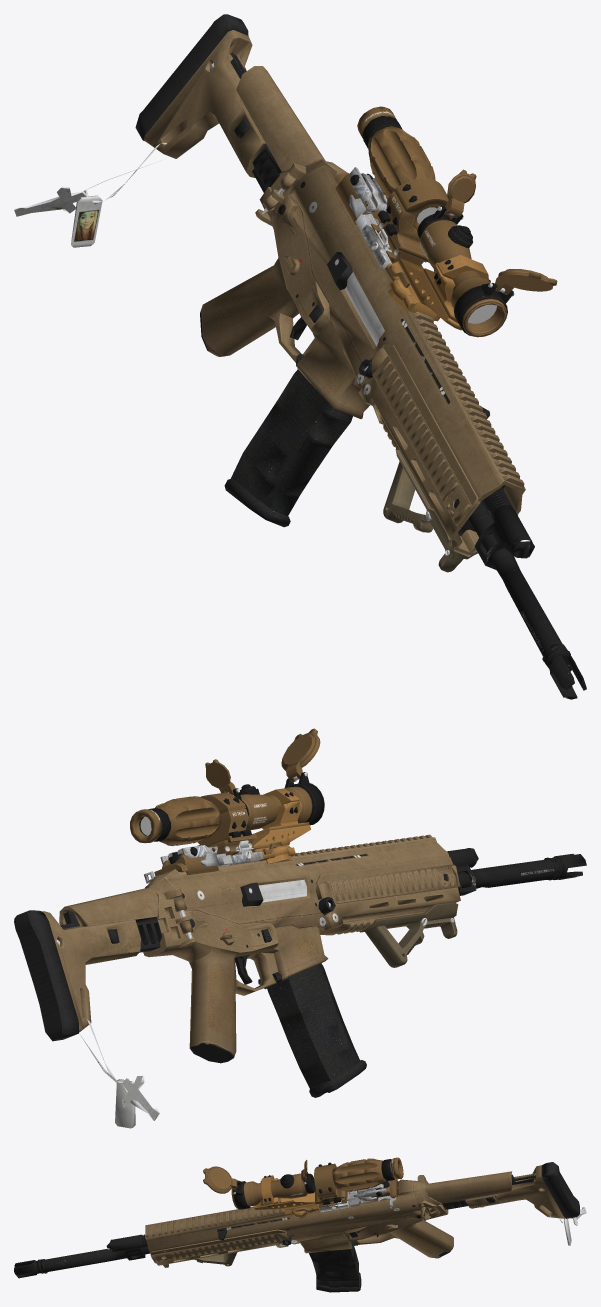
File: gun.glb
3 views of the same model, one above another, from view 1: azimuth 30°, elevation 25°; view 2: azimuth 150°, elevation 25°; view 3: azimuth 270°, elevation 25° (orthographic). The views are drawn at different scales.
Visible parts, largest first — view 1: Object_4, Object_2, Object_7; view 2: Object_4, Object_2, Object_7; view 3: Object_4, Object_2, Object_7.
Boxes of the visible parts, bbox=[...] form: Object_4: bbox=[14, 14, 586, 699]; Object_2: bbox=[334, 106, 557, 337]; Object_7: bbox=[383, 449, 477, 572]; Object_4: bbox=[14, 834, 586, 1128]; Object_2: bbox=[130, 728, 324, 883]; Object_7: bbox=[359, 902, 458, 967]; Object_4: bbox=[14, 1162, 586, 1292]; Object_2: bbox=[203, 1157, 403, 1218]; Object_7: bbox=[163, 1252, 237, 1267].
Bounding box in the file's own units: 19.81 × 29.78 × 87.63.
3 materials, 3 textured.
